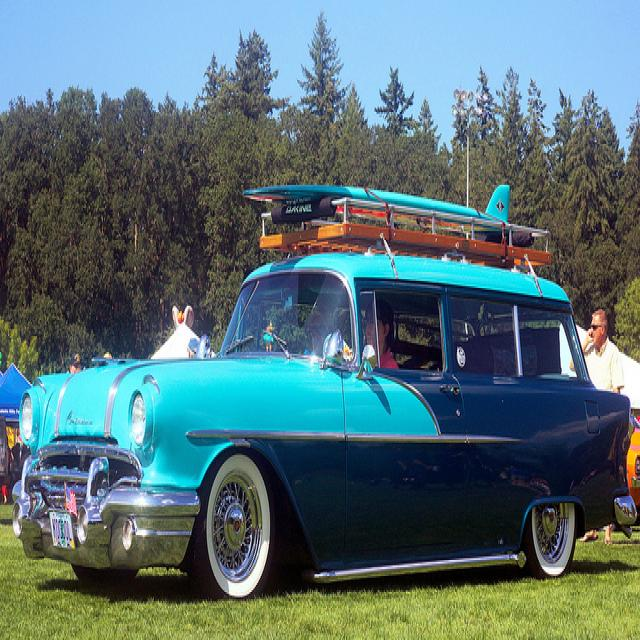Vehicle: (11, 184, 630, 600), (622, 421, 640, 505)
